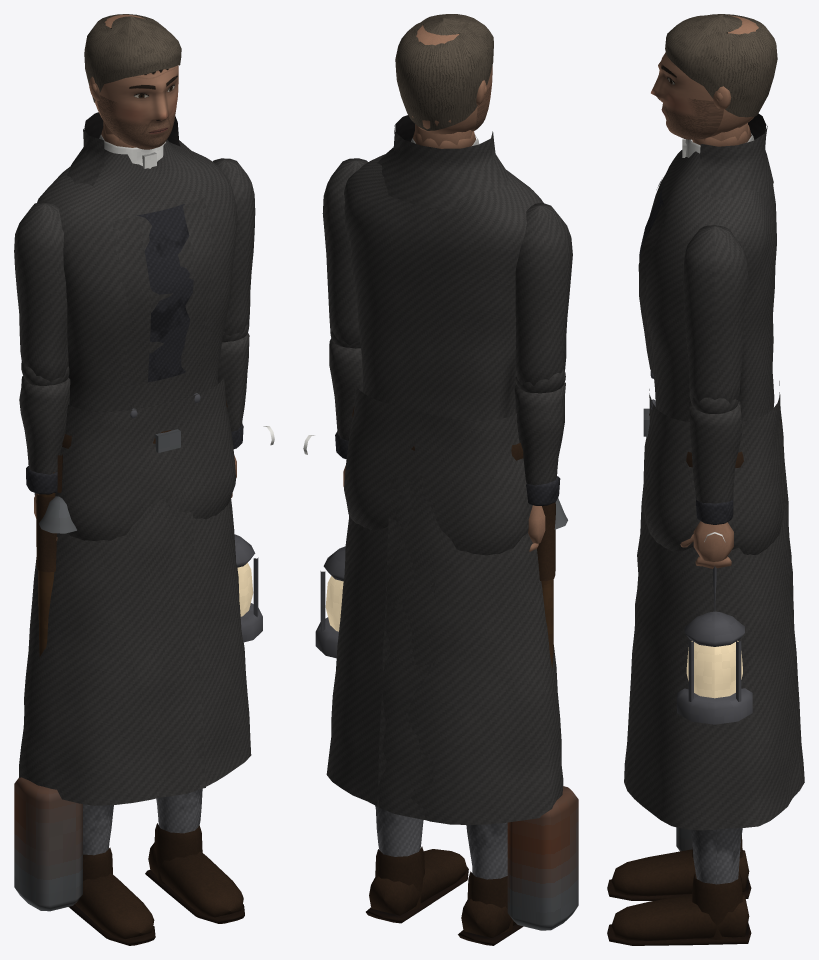
File: char_marcus.glb
The picture shows the model from 3 angles, left to right: view 1: azimuth 30°, elevation 25°; view 2: azimuth 150°, elevation 25°; view 3: azimuth 270°, elevation 25°; orthographic projection. The views are drawn at different scales.
Visible parts, largest first — view 1: Spine, SkirtR, Hips, SkirtL, Head, HandR, UpperArmR, FootL, ForearmR, FootR, UpperArmL, ForearmL (+3 smaller); view 2: Spine, SkirtR, SkirtL, Hips, HandR, Head, UpperArmR, FootL, ForearmR, UpperArmL, FootR, ForearmL (+3 smaller); view 3: SkirtL, Spine, Hips, Head, UpperArmL, HandL, FootL, ForearmL, FootR, ShinL, SkirtR, Neck.
Part boxes in pixels (x1,y1,x2,y2): Spine: (37, 112, 237, 418); SkirtR: (19, 457, 205, 805); Hips: (34, 374, 235, 541); SkirtL: (147, 497, 251, 797); Head: (84, 14, 181, 149); HandR: (14, 472, 82, 911); UpperArmR: (14, 202, 68, 381); FootL: (145, 823, 244, 923); ForearmR: (19, 360, 70, 494); FootR: (69, 847, 155, 945); UpperArmL: (212, 158, 255, 335); ForearmL: (218, 324, 249, 448); Spine: (344, 115, 543, 420); SkirtR: (377, 472, 563, 824); SkirtL: (326, 477, 435, 819); Hips: (344, 381, 567, 555); HandR: (507, 502, 578, 930); Head: (395, 14, 493, 146); UpperArmR: (515, 203, 572, 385); FootL: (366, 846, 468, 923); ForearmR: (514, 369, 565, 505); UpperArmL: (322, 158, 367, 345); FootR: (458, 871, 523, 945); ForearmL: (329, 331, 362, 459); SkirtL: (624, 456, 804, 830); Spine: (638, 113, 776, 421); Hips: (643, 381, 785, 554); Head: (651, 14, 777, 141); UpperArmL: (683, 225, 748, 403); HandL: (677, 521, 752, 724); FootL: (607, 873, 751, 945); ForearmL: (689, 397, 742, 524); FootR: (607, 835, 751, 900); ShinL: (690, 828, 742, 884); SkirtR: (630, 446, 799, 788); Neck: (692, 125, 751, 146).
Bounding box in the file's own units: 0.5839 × 1.95 × 0.3877.
16 materials, 16 textured.
